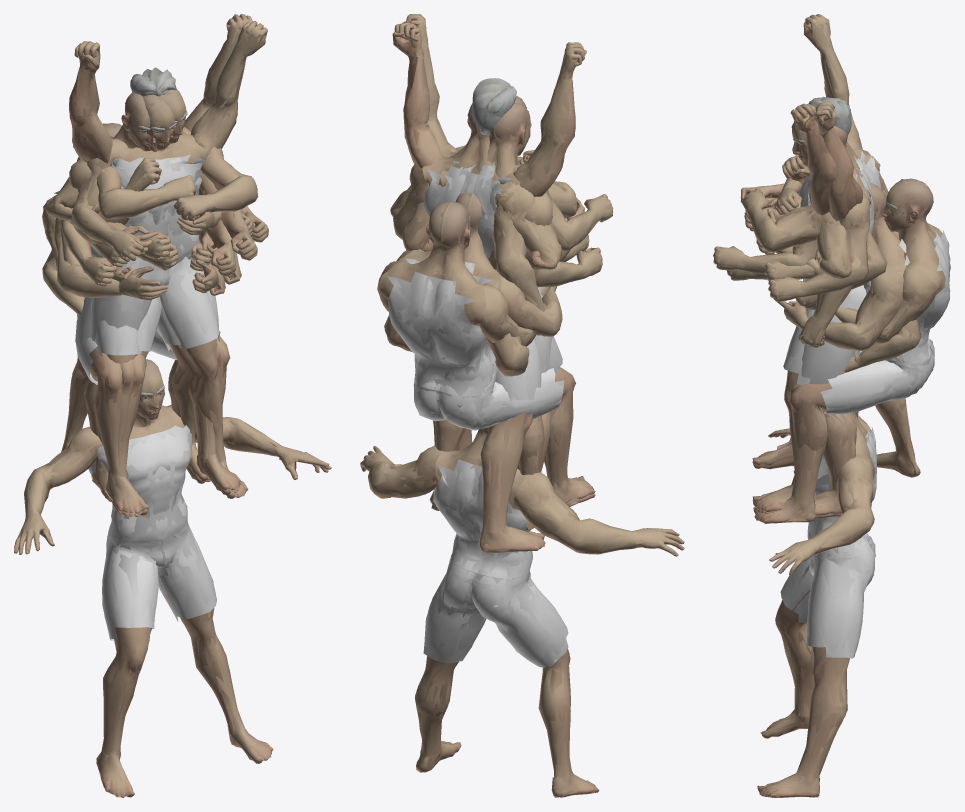
Rendered from people_M.glb.
3 views of the same model, side by side, from view 1: azimuth 30°, elevation 25°; view 2: azimuth 150°, elevation 25°; view 3: azimuth 270°, elevation 25° (orthographic). The views are drawn at different scales.
Parts seen in each view (by area): view 1: M_swim, M_swim_mid, M_swim_lo, M_swim_shorts, M_swim_top, M_swim_shorts_lo, M_hug, M_talk, M_dance_a, M_dance_b, M_sit_talk, M_drive (+41 smaller); view 2: M_swim, M_swim_lo, M_swim_shorts, M_swim_mid, M_drive_top, M_drive, M_swim_top, M_up, M_drive_top_lo, M_swim_shorts_lo, M_up_lo, M_drive_lo (+42 smaller); view 3: M_swim, M_swim_mid, M_swim_lo, M_drive, M_swim_shorts, M_drive_lo, M_swim_shorts_lo, M_drive_mid, M_up, M_dance_c, M_sit_talk, M_drive_shorts (+47 smaller).
Boxes of the visible parts, x1=… form: M_swim: x1=14, y1=359, x2=331, y2=797; M_swim_mid: x1=14, y1=360, x2=331, y2=797; M_swim_lo: x1=14, y1=360, x2=328, y2=797; M_swim_shorts: x1=102, y1=522, x2=216, y2=640; M_swim_top: x1=88, y1=425, x2=191, y2=551; M_swim_shorts_lo: x1=102, y1=523, x2=215, y2=640; M_hug: x1=97, y1=145, x2=257, y2=220; M_talk: x1=65, y1=101, x2=247, y2=496; M_dance_a: x1=73, y1=89, x2=217, y2=501; M_dance_b: x1=61, y1=93, x2=253, y2=493; M_sit_talk: x1=54, y1=218, x2=218, y2=513; M_drive: x1=42, y1=123, x2=240, y2=516; M_swim: x1=360, y1=427, x2=684, y2=797; M_swim_lo: x1=360, y1=427, x2=683, y2=797; M_swim_shorts: x1=424, y1=558, x2=568, y2=667; M_swim_mid: x1=362, y1=429, x2=684, y2=797; M_drive_top: x1=387, y1=272, x2=492, y2=398; M_drive: x1=377, y1=201, x2=595, y2=505; M_swim_top: x1=433, y1=460, x2=532, y2=586; M_up: x1=393, y1=22, x2=586, y2=196; M_drive_top_lo: x1=388, y1=272, x2=494, y2=398; M_swim_shorts_lo: x1=423, y1=559, x2=568, y2=667; M_up_lo: x1=392, y1=22, x2=584, y2=194; M_drive_lo: x1=378, y1=202, x2=594, y2=506; M_swim: x1=757, y1=413, x2=874, y2=797; M_swim_mid: x1=757, y1=413, x2=874, y2=797; M_swim_lo: x1=757, y1=413, x2=874, y2=797; M_drive: x1=753, y1=179, x2=943, y2=514; M_swim_shorts: x1=780, y1=536, x2=874, y2=657; M_drive_lo: x1=752, y1=178, x2=945, y2=512; M_swim_shorts_lo: x1=781, y1=536, x2=875, y2=658; M_drive_mid: x1=753, y1=179, x2=943, y2=513; M_up: x1=803, y1=14, x2=862, y2=220; M_dance_c: x1=768, y1=126, x2=870, y2=491; M_sit_talk: x1=753, y1=230, x2=903, y2=462; M_drive_shorts: x1=820, y1=360, x2=932, y2=413.
Bounding box in the file's own units: 1.45 × 3.32 × 1.
